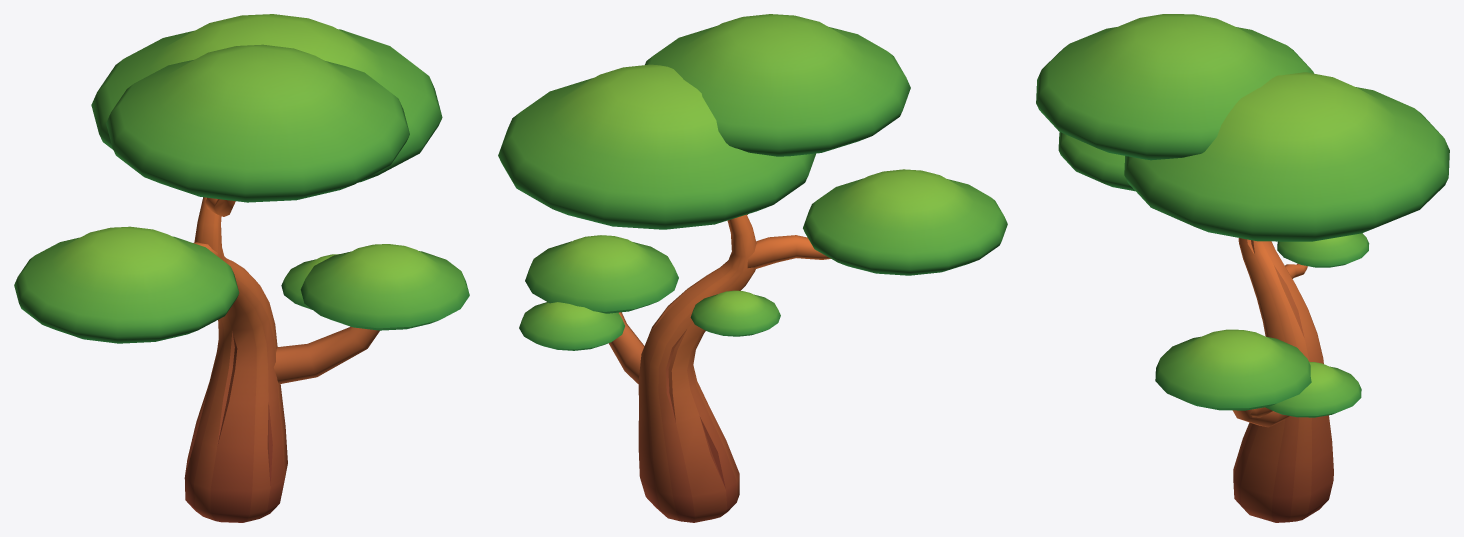
Rendered from Tree_3_C_Color1.fbx.
The picture shows the model from 3 angles, left to right: view 1: azimuth 30°, elevation 25°; view 2: azimuth 150°, elevation 25°; view 3: azimuth 270°, elevation 25°; orthographic projection. The views are drawn at different scales.
Visible parts, largest first — view 1: Tree_3_C_Color1; view 2: Tree_3_C_Color1; view 3: Tree_3_C_Color1.
Part boxes in pixels (bbox=[...]): Tree_3_C_Color1: bbox=[14, 14, 469, 522]; Tree_3_C_Color1: bbox=[498, 14, 1007, 522]; Tree_3_C_Color1: bbox=[1036, 14, 1449, 522].
Bounding box in the file's own units: 5.63 × 5.79 × 4.62.
